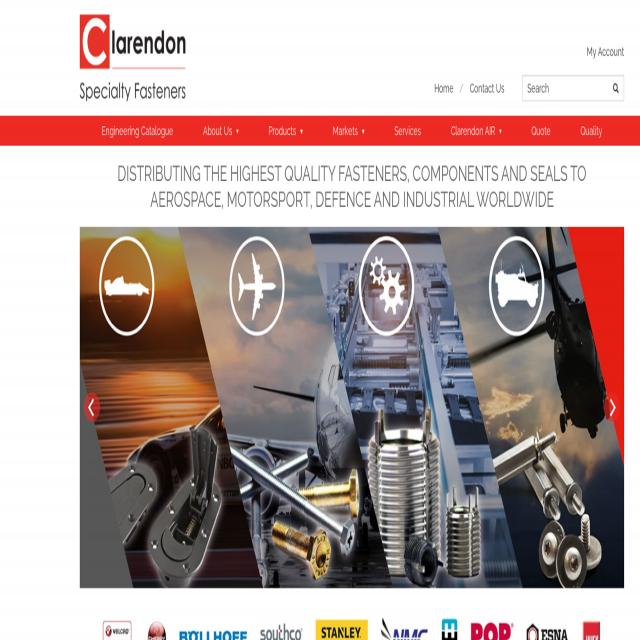button: (80, 225, 624, 588), (80, 14, 185, 101), (93, 116, 181, 146), (442, 116, 510, 146), (195, 116, 247, 146), (260, 116, 312, 146), (324, 116, 372, 146), (174, 621, 248, 640), (386, 116, 429, 146), (377, 616, 430, 640), (466, 617, 518, 640), (572, 116, 610, 146), (315, 619, 369, 640), (523, 116, 559, 146), (96, 614, 136, 640), (523, 619, 569, 640), (255, 621, 304, 640), (143, 617, 169, 640), (439, 616, 460, 640), (604, 393, 620, 423), (84, 393, 100, 422), (608, 75, 624, 101), (582, 620, 600, 640)
field: (522, 75, 624, 102)
